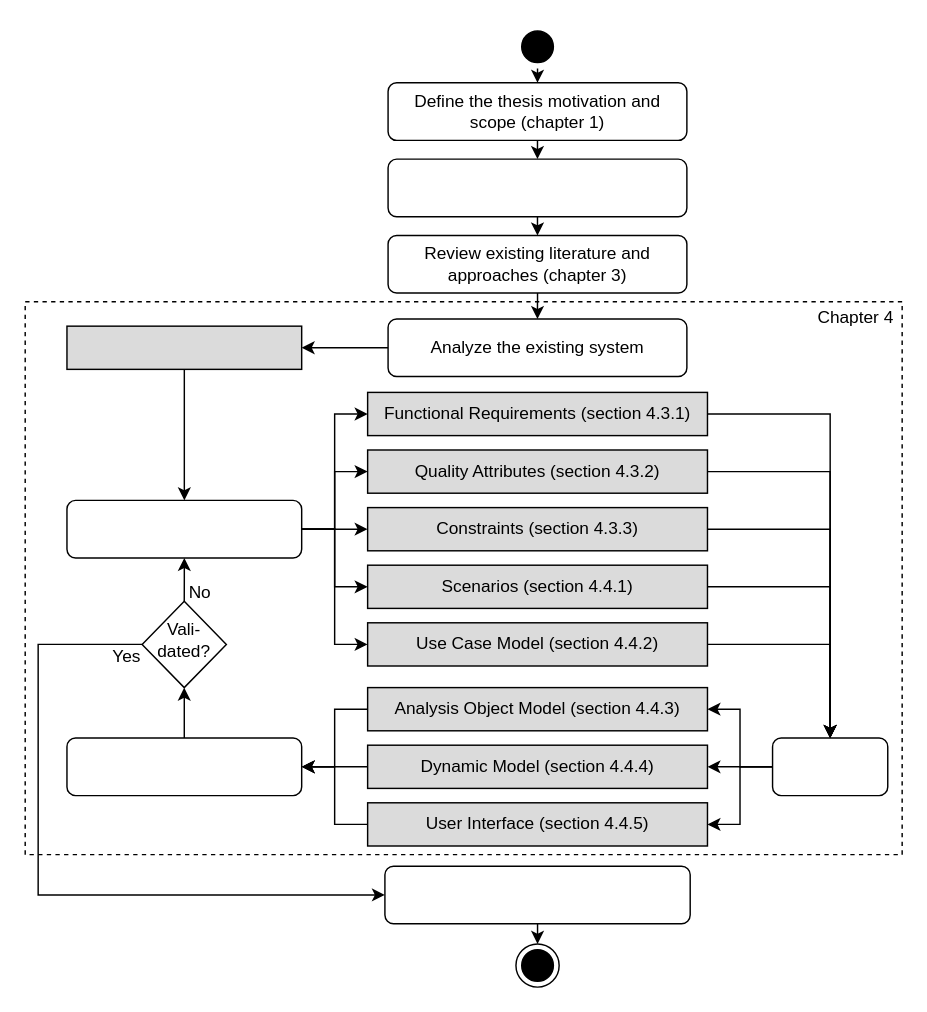
The diagram is 927 pixels wide and 1012 high, and some of its shapes have lost their labels. The centre of each missing label's shape, as x and y in pixels:
Analysis: point (829, 766)
Design the architecture (chapter 5): point (536, 894)
Establish the technical background and relevant concepts (chapter 2): point (537, 187)
Existing system (section 4.2): point (184, 347)
Requirements elicitation: point (184, 528)
Validate Requirements with Stakeholders: point (184, 766)
